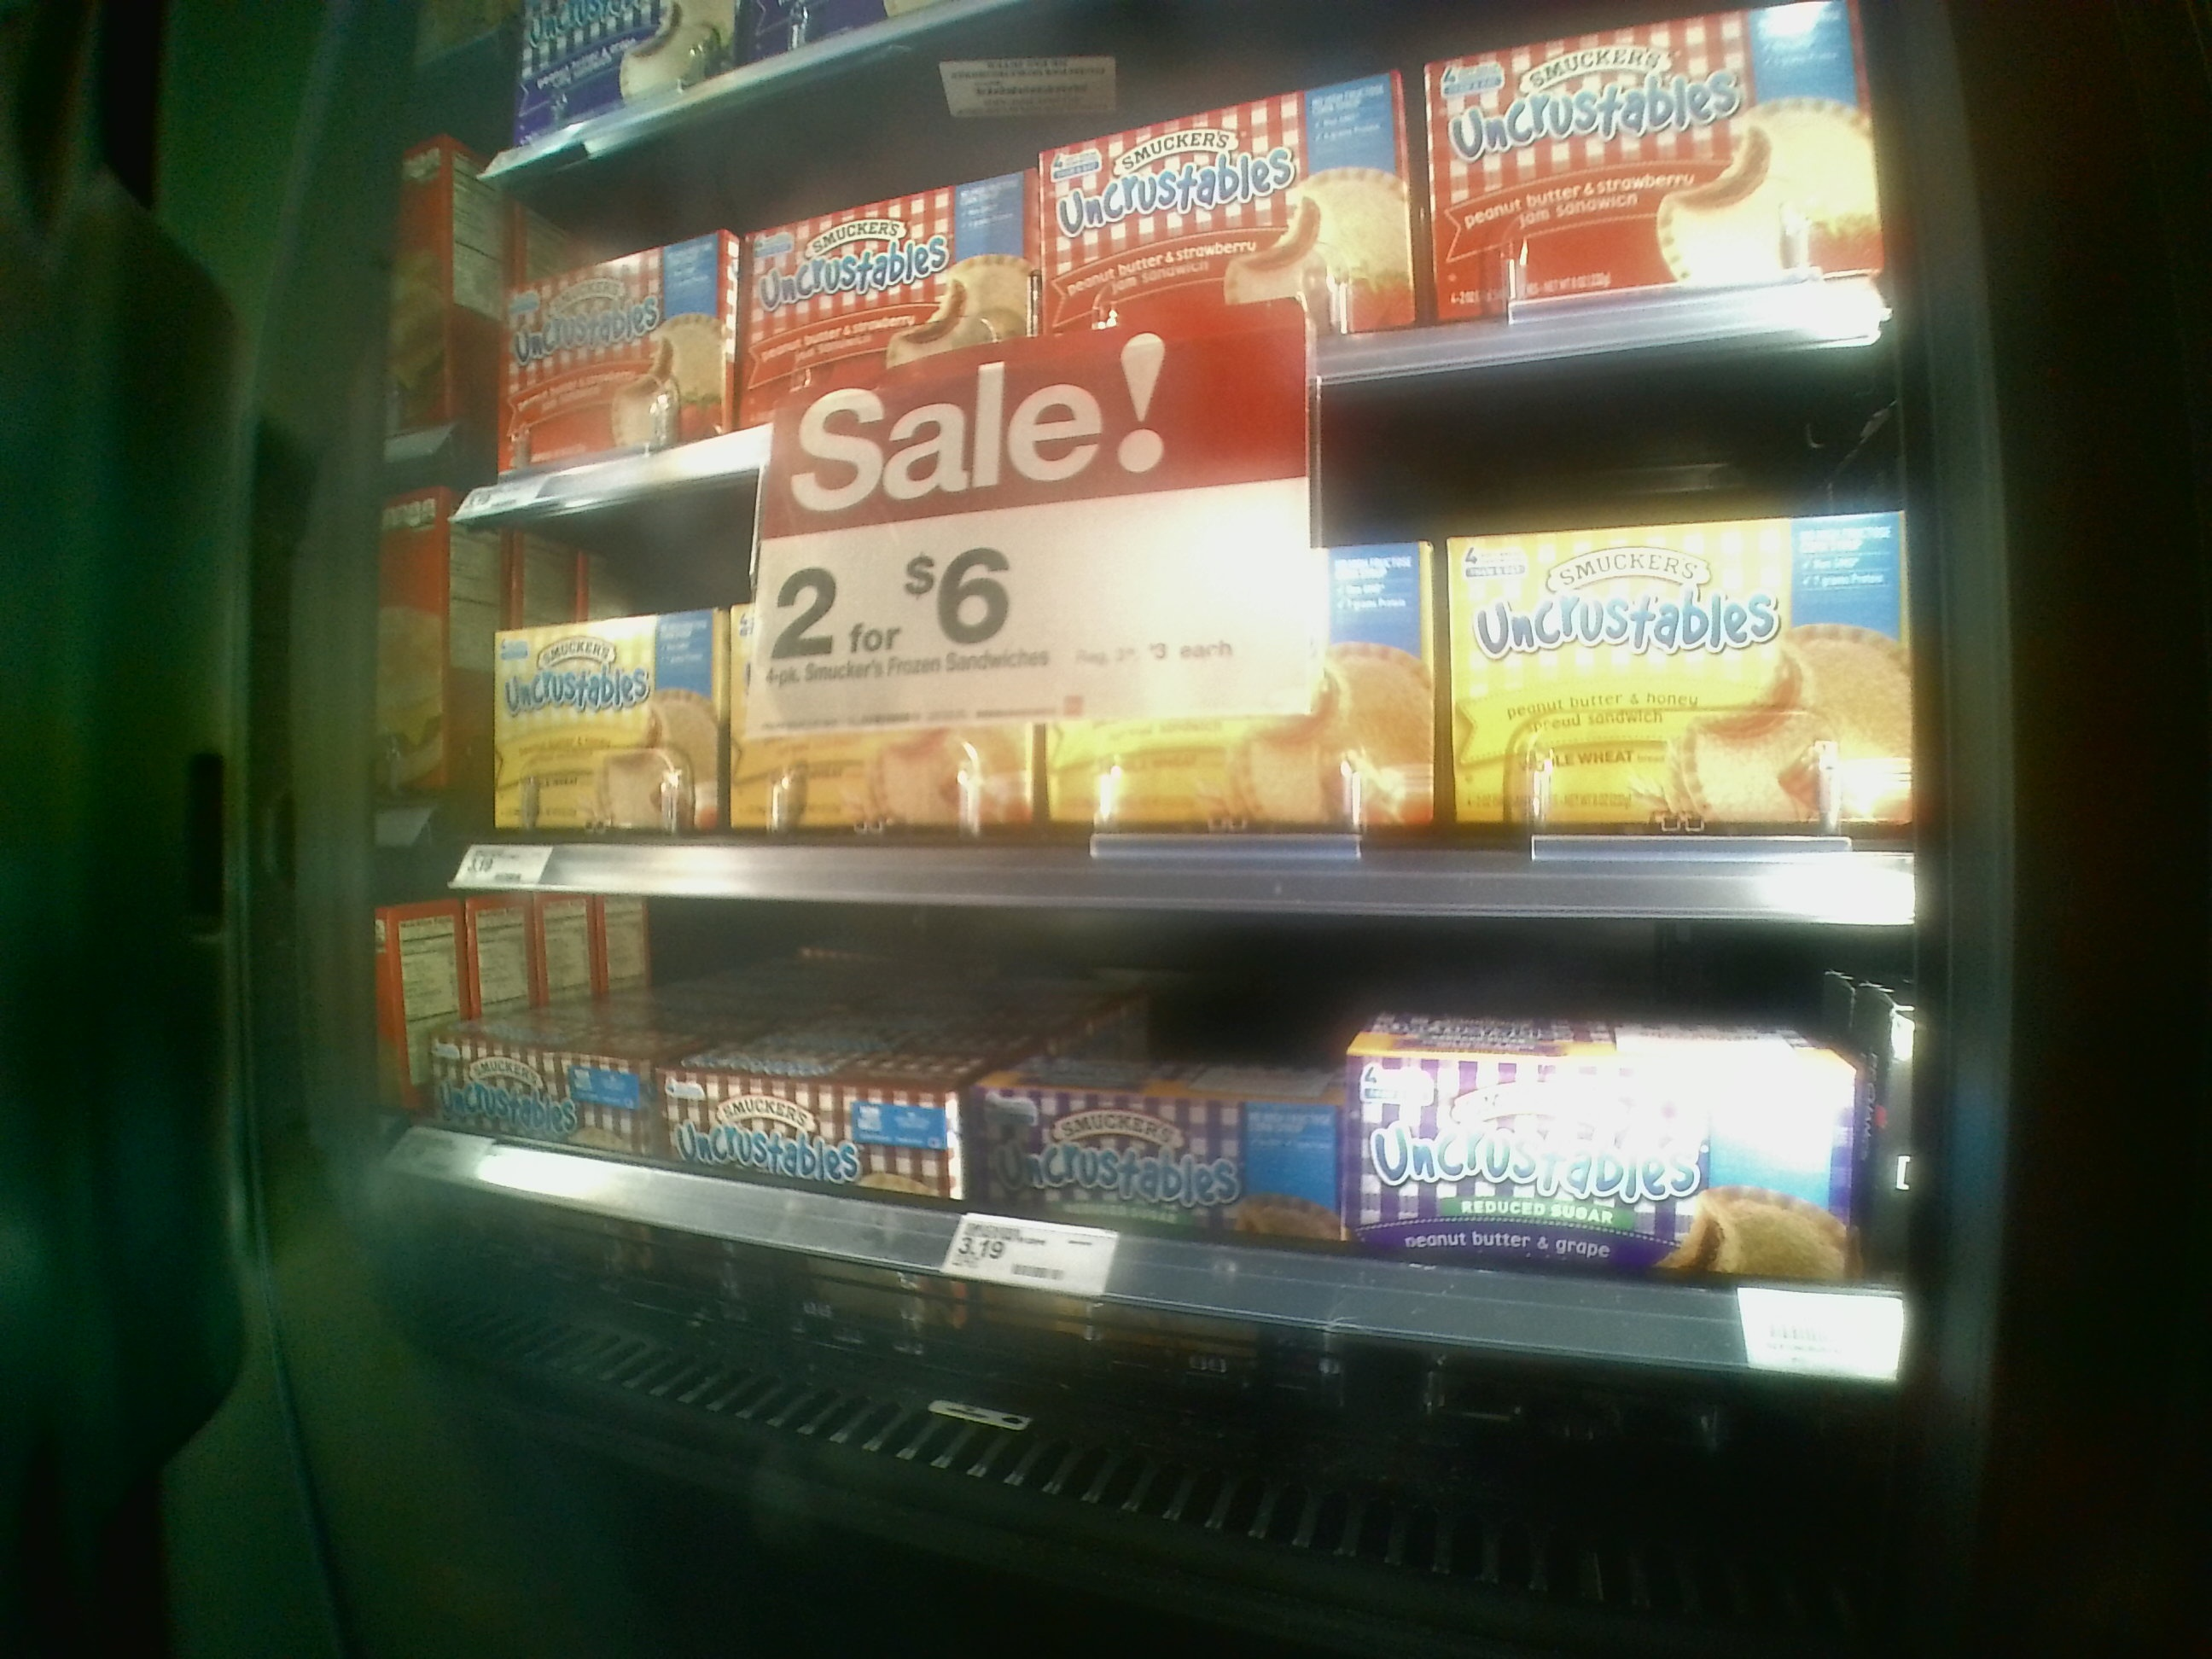shelf: (397, 903, 1907, 1581), (418, 514, 1939, 920)
